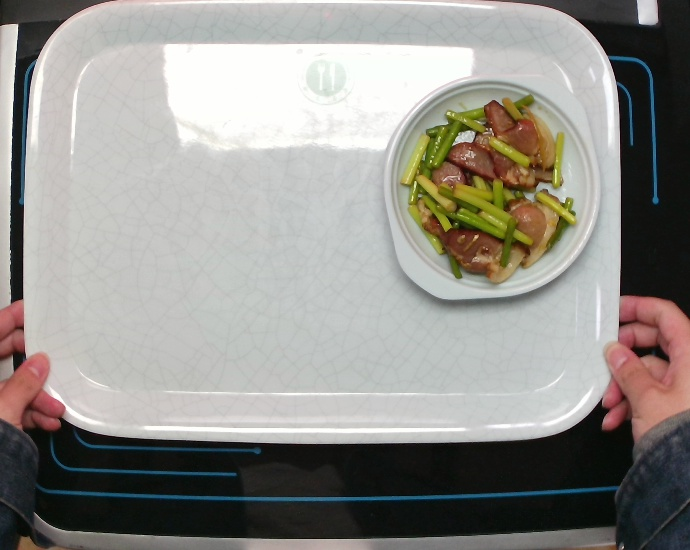JYsf-Shuang_Er_Pan: (379, 70, 604, 302)
